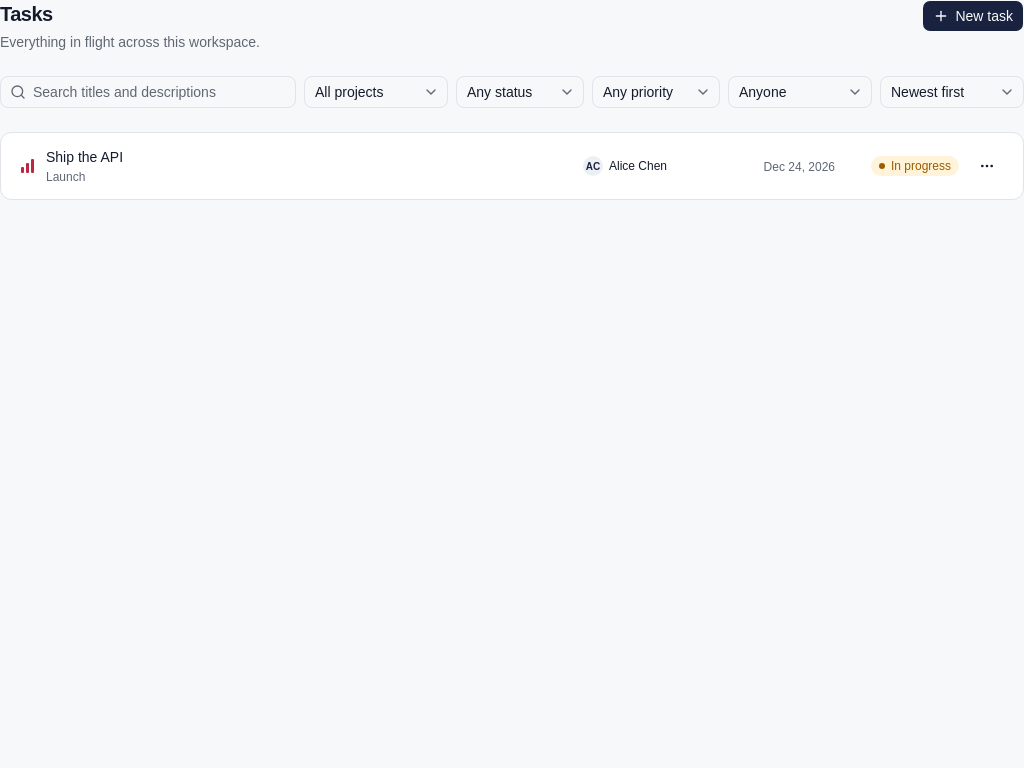
TasksPage › requires a title and a project
The width and height of the screenshot is (1024, 768).
What coordinates should you click on to do the following:
click the button "New task"
I would click on:
 (973, 16)
Its box is [922, 0, 1023, 32].
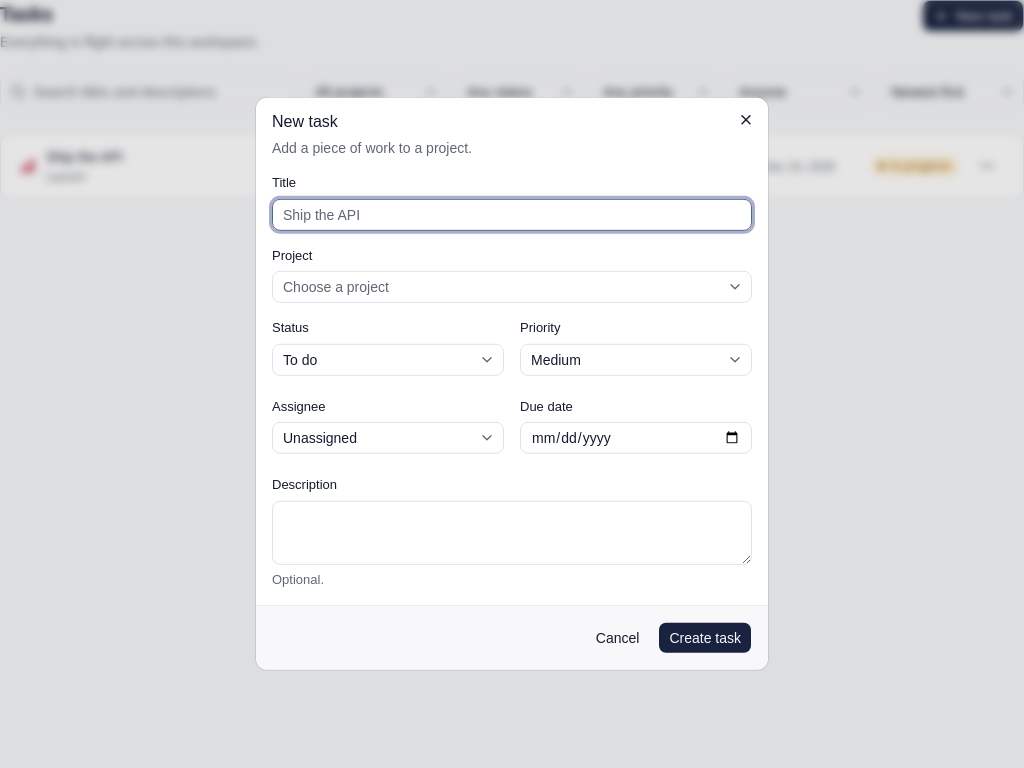
What coordinates should you click on to do the following:
click the button "Create task"
I would click on:
 (705, 638)
Its box is [658, 622, 752, 654].
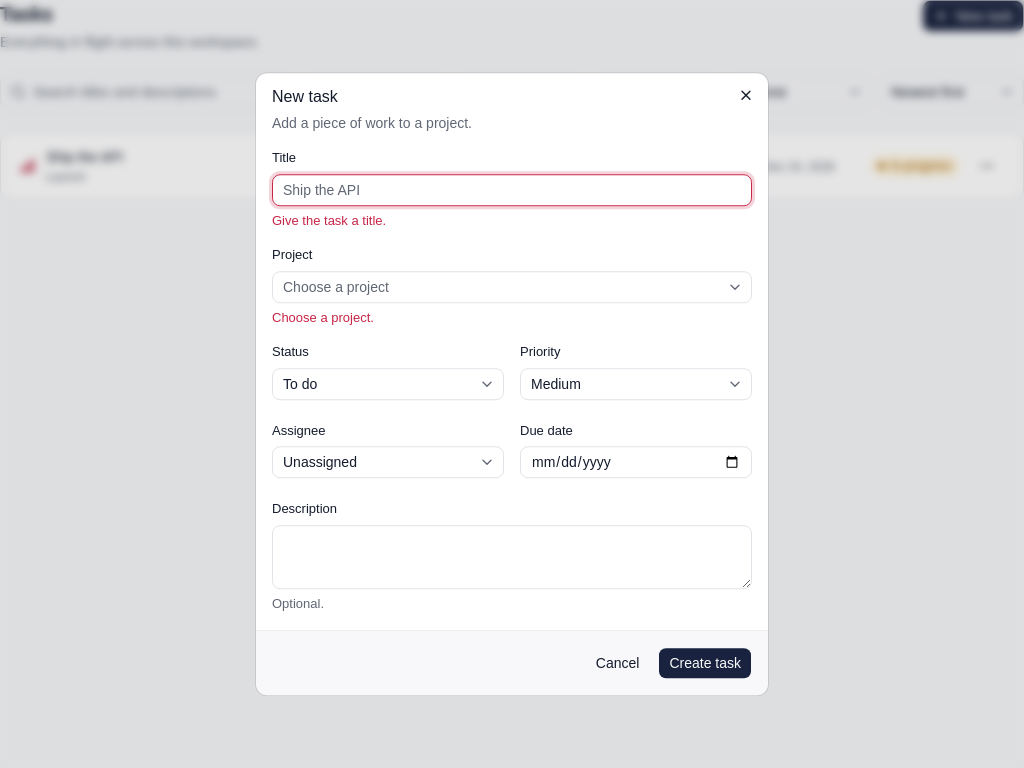
Expected: the text "Give the task a title." is shown, [272, 213, 386, 228]
Expected: the text "Choose a project." is shown, [272, 310, 374, 325]
